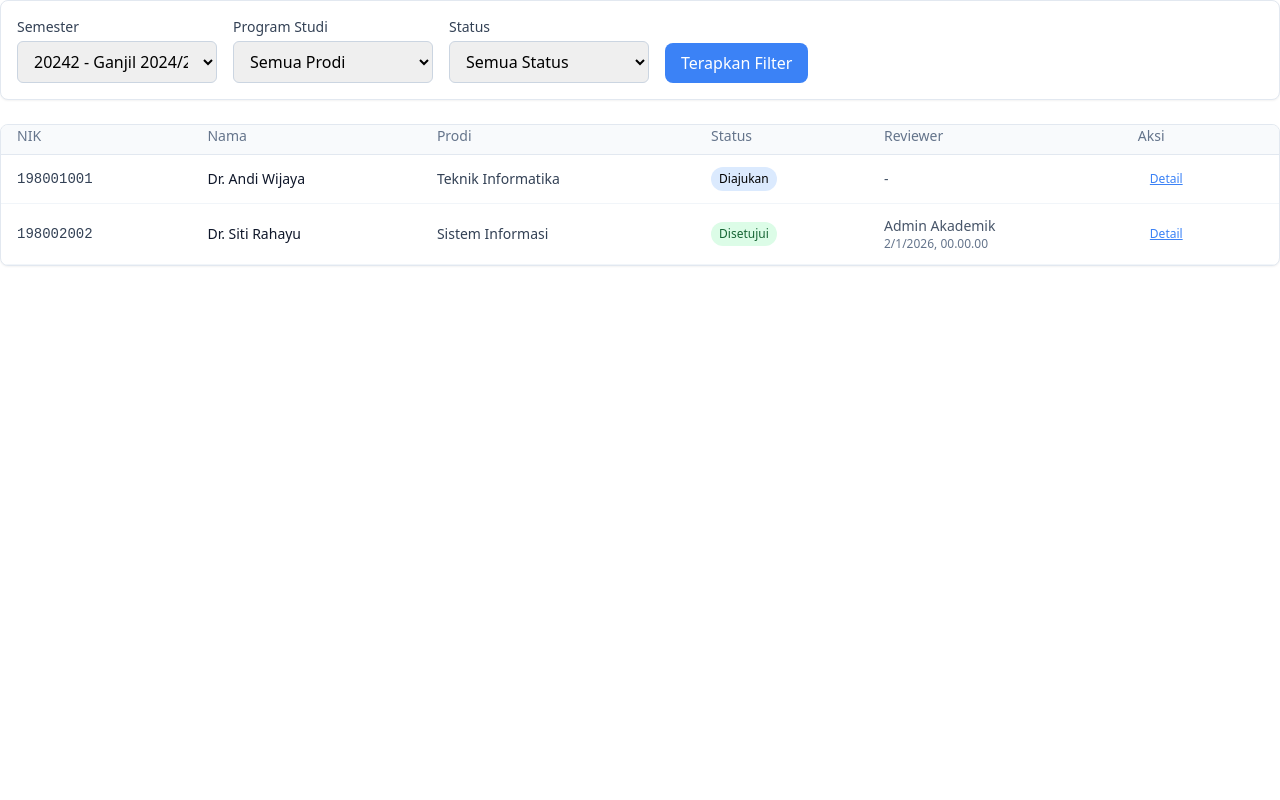
it: AdminCourseReviewPage — Persetujuan MK Dosen › klik Detail → membuka modal detail
The image size is (1280, 800).
Expected: the text "Dr. Andi Wijaya" is shown, [191,154,421,204]
Note: Get the first Detail button in the first row
Click the button "Detail" in the row of "198001001" at x=1166, y=179, box [1138,167,1195,191]
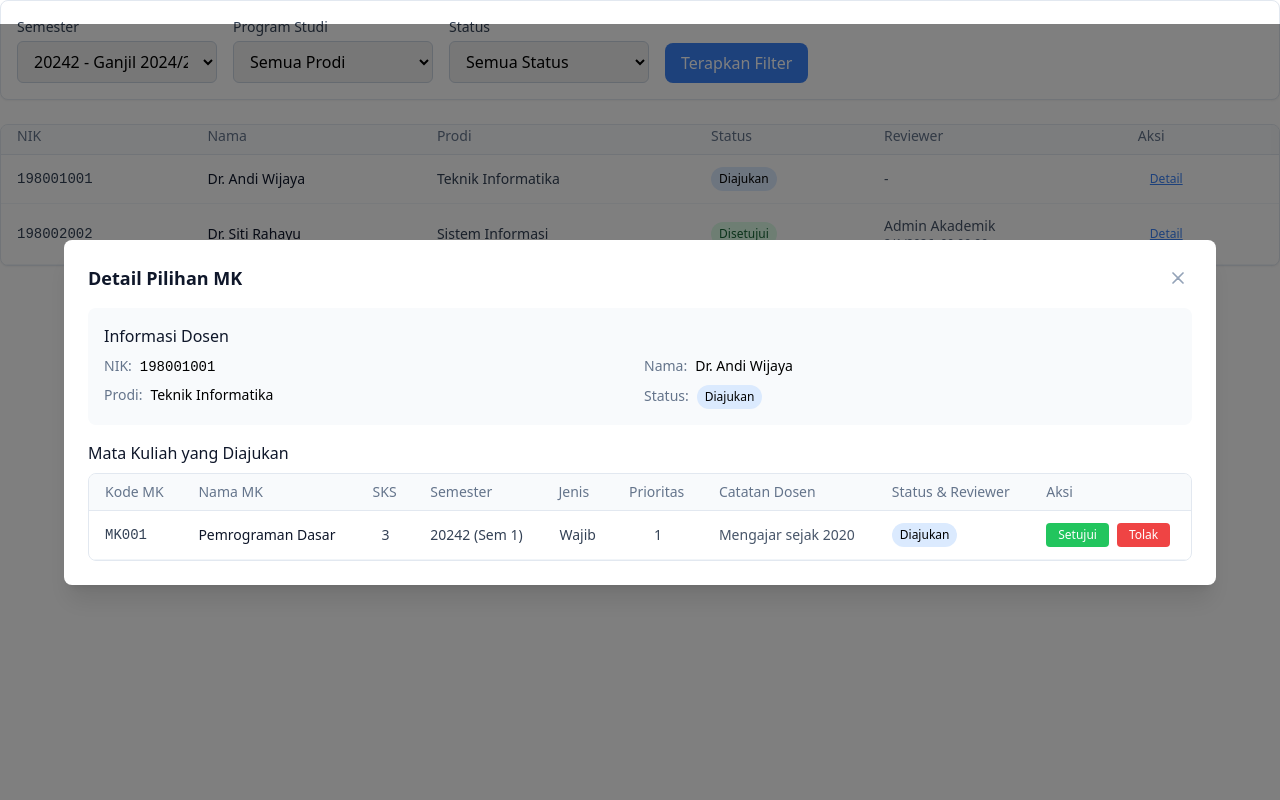
Expected: the dialog is shown
Expected: the heading "Detail Pilihan MK" is shown, [88,264,242,292]
Expected: the text "MK001" is shown, [89,510,182,559]
